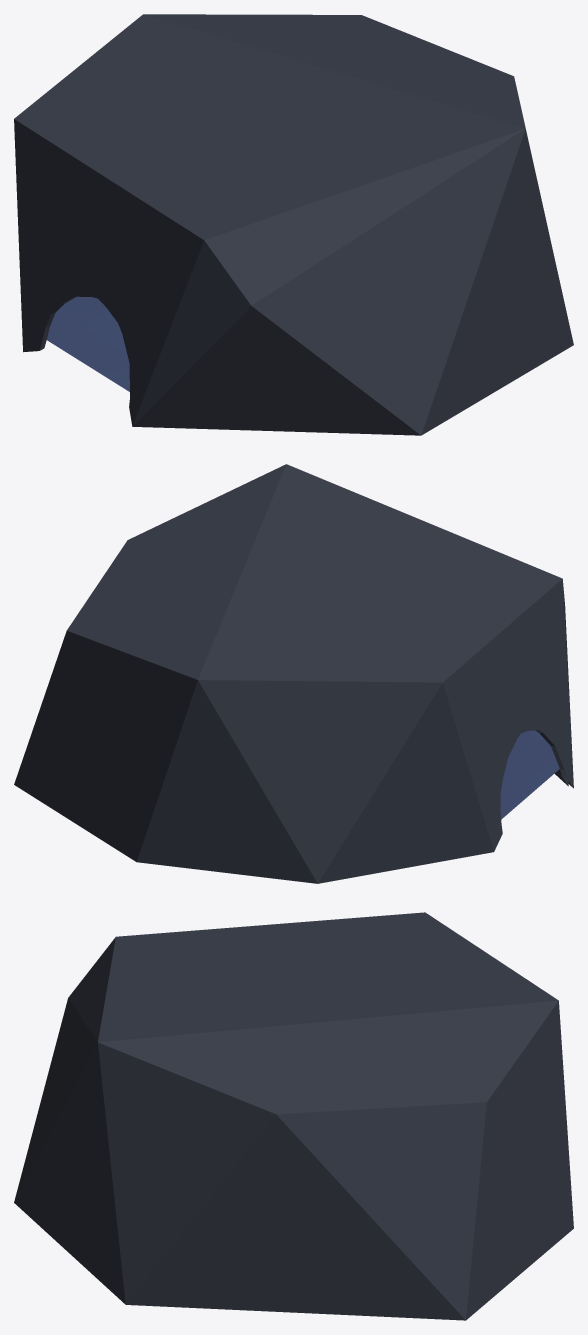
The model's file is panda_cave_room.fbx.
The picture shows the model from 3 angles, top to bottom: view 1: azimuth 30°, elevation 25°; view 2: azimuth 150°, elevation 25°; view 3: azimuth 270°, elevation 25°; orthographic projection. The views are drawn at different scales.
Visible parts, largest first — view 1: cave_wall, cave_floor; view 2: cave_wall, cave_floor; view 3: cave_wall.
Boxes of the visible parts, x1,y1,x2,y2 form: cave_wall: (14, 14, 573, 435); cave_floor: (47, 296, 129, 391); cave_wall: (14, 464, 573, 883); cave_floor: (500, 730, 559, 819); cave_wall: (14, 912, 573, 1320).
Bounding box in the file's own units: 4791 × 2351 × 5120.
2 materials, 1 textured.
